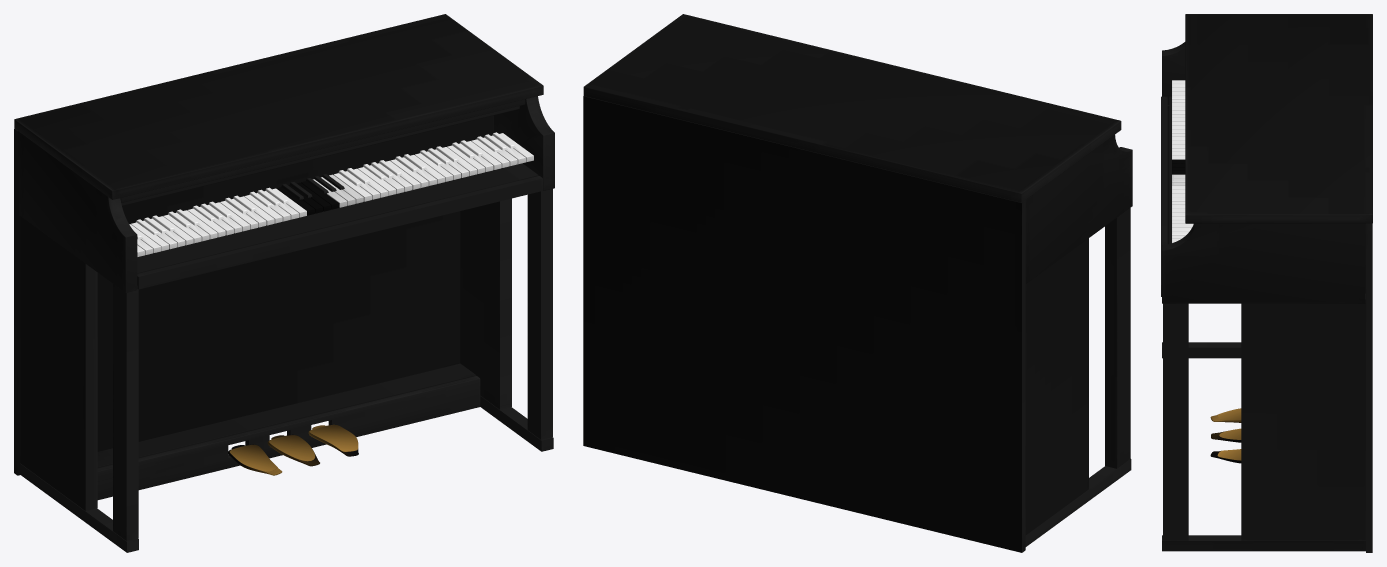
Rendered from upright-transformed.glb.
The picture shows the model from 3 angles, left to right: view 1: azimuth 30°, elevation 25°; view 2: azimuth 150°, elevation 25°; view 3: azimuth 270°, elevation 25°; orthographic projection. The views are drawn at different scales.
Parts seen in each view (by area): view 1: Upright_Baked, Pedal 3_Baked, Pedal_Baked, Pedal 2_Baked; view 2: Upright_Baked; view 3: Upright_Baked, Pedal_Baked, Pedal 3_Baked, Pedal 2_Baked.
Boxes of the visible parts, x1,y1,x2,y2 form: Upright_Baked: [14, 14, 554, 552]; Pedal 3_Baked: [308, 424, 358, 456]; Pedal_Baked: [228, 444, 282, 475]; Pedal 2_Baked: [267, 434, 319, 466]; Upright_Baked: [583, 14, 1132, 552]; Upright_Baked: [1161, 14, 1372, 552]; Pedal_Baked: [1210, 408, 1241, 422]; Pedal 3_Baked: [1210, 449, 1241, 463]; Pedal 2_Baked: [1211, 428, 1241, 442].
Bounding box in the file's own units: 10.63 × 8.33 × 4.73.
Materials: 12 (11 with a texture image).
